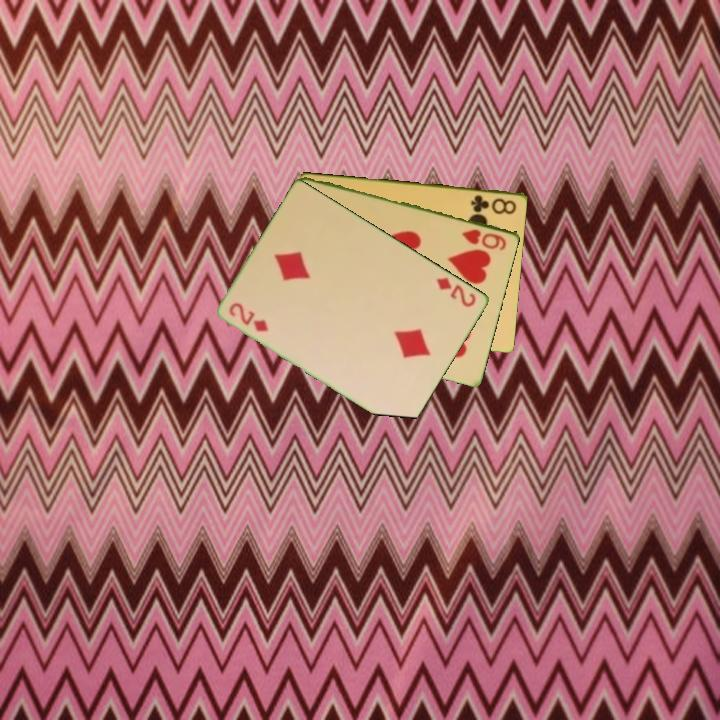2d: (433, 274, 479, 310), (226, 299, 271, 335)
6h: (458, 225, 510, 253)
8c: (468, 191, 519, 217)
